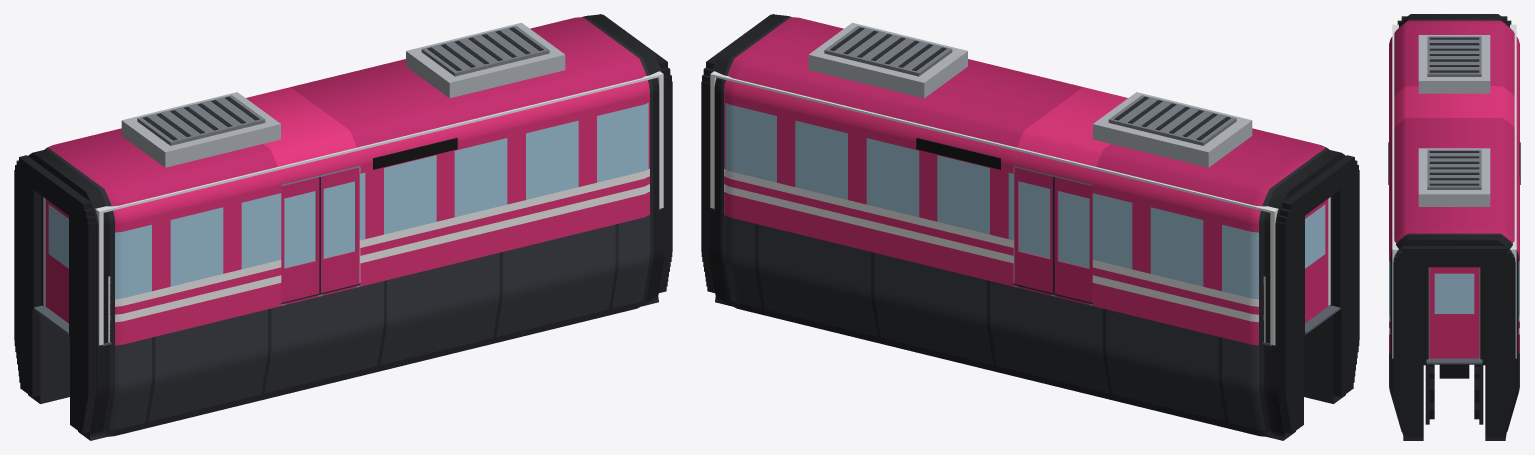
The model's file is mumbai_car.obj.
3 views of the same model, side by side, from view 1: azimuth 30°, elevation 25°; view 2: azimuth 150°, elevation 25°; view 3: azimuth 270°, elevation 25° (orthographic). The views are drawn at different scales.
Parts seen in each view (by area): view 1: SHELL, SHELL_diaphragm, SHELL_roof, EXTERNAL_DOOR_4_CG_DR1_TOGGLE_TL_-0.69_X, EXTERNAL_DOOR_5_CG_DR1_TOGGLE_TL_0.69_X, CONNECTING_DOOR_1_CG_CR_TOGGLE_TL_0.98_Z, SHELL_ceiling, SHELL_end, SHELL_sign; view 2: SHELL, SHELL_diaphragm, SHELL_roof, EXTERNAL_DOOR_7_CG_DL1_TOGGLE_TL_-0.69_X, EXTERNAL_DOOR_8_CG_DL1_TOGGLE_TL_0.69_X, CONNECTING_DOOR_1_CG_CR_TOGGLE_TL_0.98_Z, SHELL_ceiling, SHELL_end, SHELL_sign; view 3: SHELL, SHELL_diaphragm, SHELL_roof, CONNECTING_DOOR_2_CG_CF_TOGGLE_TL_0.98_Z, SHELL_ceiling, BOGEY_FRONT, SHELL_end, BOGEY_FRONT_WHEEL_1, SHELL_floor, SHELL_gangway, SHELL_sign.
Boxes of the visible parts, x1,y1,x2,y2 form: SHELL: [28, 14, 665, 440]; SHELL_diaphragm: [14, 14, 672, 433]; SHELL_roof: [121, 22, 565, 167]; EXTERNAL_DOOR_4_CG_DR1_TOGGLE_TL_-0.69_X: [281, 177, 320, 302]; EXTERNAL_DOOR_5_CG_DR1_TOGGLE_TL_0.69_X: [321, 167, 359, 292]; CONNECTING_DOOR_1_CG_CR_TOGGLE_TL_0.98_Z: [45, 199, 68, 323]; SHELL_ceiling: [27, 72, 659, 212]; SHELL_end: [43, 71, 663, 345]; SHELL_sign: [373, 138, 457, 169]; SHELL: [708, 14, 1345, 440]; SHELL_diaphragm: [701, 14, 1359, 433]; SHELL_roof: [808, 22, 1252, 167]; EXTERNAL_DOOR_7_CG_DL1_TOGGLE_TL_-0.69_X: [1053, 177, 1092, 302]; EXTERNAL_DOOR_8_CG_DL1_TOGGLE_TL_0.69_X: [1014, 167, 1052, 292]; CONNECTING_DOOR_1_CG_CR_TOGGLE_TL_0.98_Z: [1305, 199, 1328, 323]; SHELL_ceiling: [713, 73, 1346, 212]; SHELL_end: [710, 71, 1346, 345]; SHELL_sign: [916, 138, 1000, 169]; SHELL: [1389, 14, 1519, 440]; SHELL_diaphragm: [1394, 16, 1514, 436]; SHELL_roof: [1418, 35, 1490, 206]; CONNECTING_DOOR_2_CG_CF_TOGGLE_TL_0.98_Z: [1429, 267, 1479, 358]; SHELL_ceiling: [1392, 26, 1516, 248]; BOGEY_FRONT: [1425, 362, 1483, 424]; SHELL_end: [1392, 24, 1516, 358]; BOGEY_FRONT_WHEEL_1: [1435, 364, 1473, 378]; SHELL_floor: [1428, 267, 1480, 356]; SHELL_gangway: [1426, 357, 1482, 363]; SHELL_sign: [1388, 142, 1520, 184].
Bounding box in the file's own units: 11.12 × 4.81 × 2.66.
Materials: 1 (1 with a texture image).
